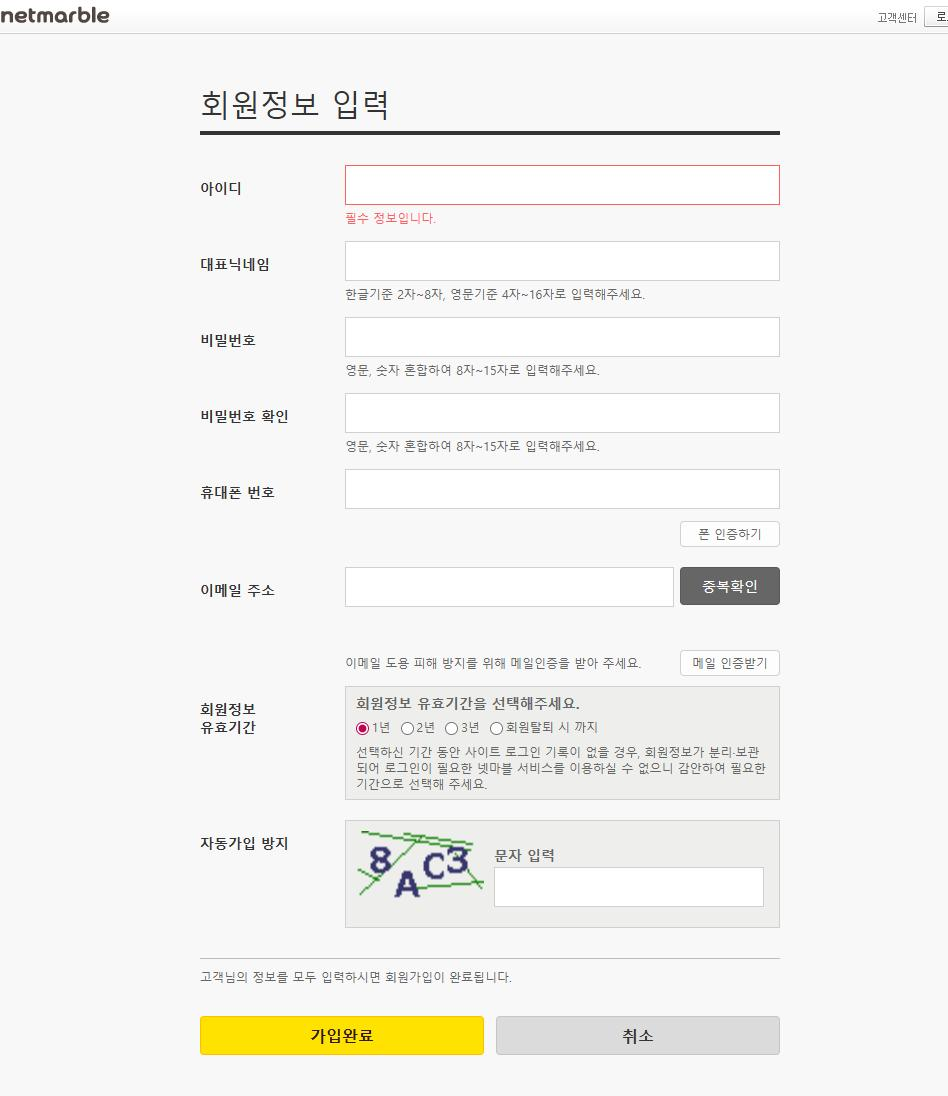button: (198, 1013, 482, 1058), (500, 1020, 765, 1057), (680, 560, 787, 605), (678, 515, 777, 545), (687, 652, 773, 673)
checkbox: (492, 717, 613, 737), (348, 718, 393, 737), (447, 720, 483, 737), (400, 715, 427, 737)
input_field: (347, 162, 780, 203), (345, 318, 778, 357), (340, 470, 770, 505), (345, 392, 770, 427), (347, 245, 777, 273), (345, 568, 665, 605), (490, 867, 752, 903)
